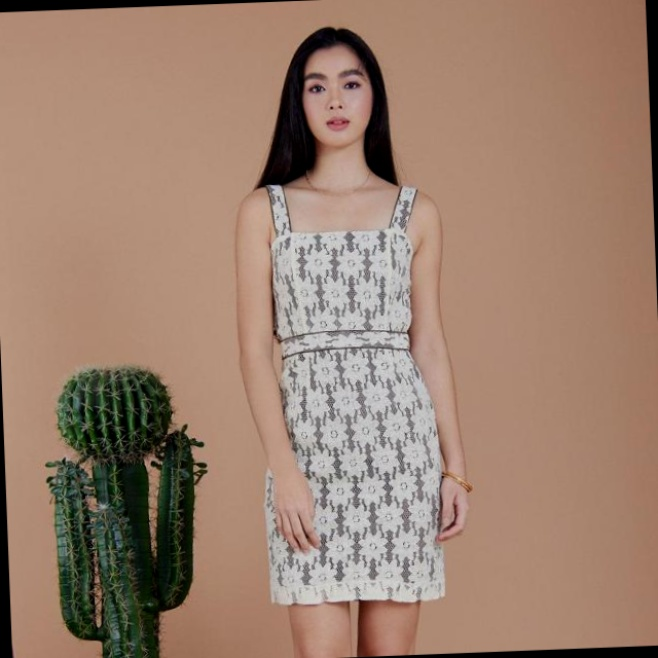Miniskirt: (255, 349, 453, 658)
Sleeveless: (229, 183, 279, 248), (402, 184, 444, 239)
low_neckline: (264, 176, 411, 336)
